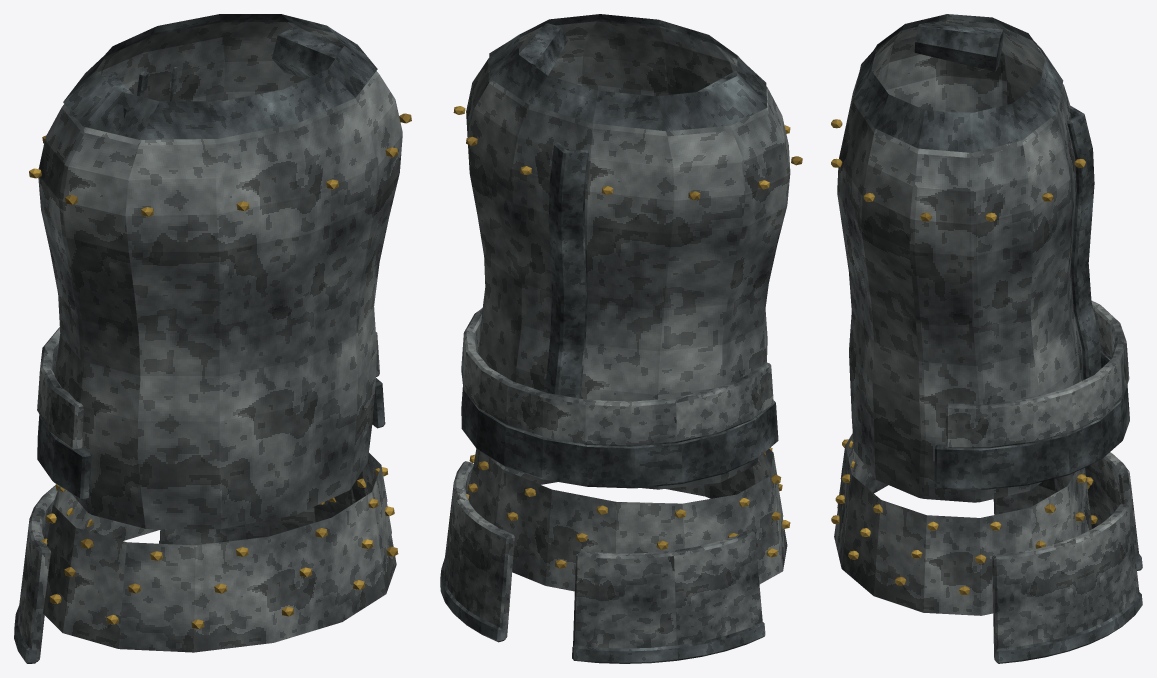
Rendered from chestplate.glb.
3 views of the same model, side by side, from view 1: azimuth 30°, elevation 25°; view 2: azimuth 150°, elevation 25°; view 3: azimuth 270°, elevation 25° (orthographic). The views are drawn at different scales.
Visible parts, largest first — view 1: cuirass, cuirass_collar, fauld_2, fauld_0, fauld_1, tasset_-1, plackart_1, plackart_0, cuirass_strap_1, tasset_1; view 2: cuirass, tasset_-1, plackart_1, plackart_0, cuirass_collar, fauld_0, cuirass_keel, tasset_1, fauld_1, fauld_2, tasset_edge_-1, cuirass_strap_1 (+1 smaller); view 3: cuirass, tasset_1, cuirass_collar, plackart_1, fauld_0, plackart_0, fauld_1, fauld_2, cuirass_keel, tasset_-1, cuirass_strap_-1, tasset_edge_1.
Boxes of the visible parts, left/top/right/bottom form: cuirass: left=38, top=22, right=402, bottom=529; cuirass_collar: left=63, top=14, right=377, bottom=139; fauld_2: left=43, top=496, right=396, bottom=652; fauld_0: left=47, top=453, right=387, bottom=584; fauld_1: left=47, top=473, right=391, bottom=618; tasset_-1: left=18, top=485, right=57, bottom=661; plackart_1: left=37, top=327, right=379, bottom=450; plackart_0: left=37, top=378, right=385, bottom=500; cuirass_strap_1: left=272, top=26, right=354, bottom=78; tasset_1: left=159, top=487, right=354, bottom=545; cuirass: left=466, top=21, right=790, bottom=489; tasset_-1: left=573, top=530, right=762, bottom=648; plackart_1: left=461, top=308, right=773, bottom=446; plackart_0: left=461, top=387, right=778, bottom=488; cuirass_collar: left=489, top=14, right=767, bottom=131; fauld_0: left=471, top=448, right=778, bottom=539; cuirass_keel: left=545, top=142, right=588, bottom=398; tasset_1: left=443, top=461, right=514, bottom=638; fauld_1: left=468, top=458, right=783, bottom=560; fauld_2: left=498, top=463, right=787, bottom=591; tasset_edge_-1: left=572, top=622, right=765, bottom=663; cuirass_strap_1: left=519, top=23, right=567, bottom=75; cuirass: left=837, top=19, right=1083, bottom=502; tasset_1: left=992, top=504, right=1139, bottom=657; cuirass_collar: left=854, top=14, right=1063, bottom=152; plackart_1: left=945, top=300, right=1129, bottom=448; fauld_0: left=840, top=433, right=1087, bottom=553; plackart_0: left=934, top=351, right=1129, bottom=489; fauld_1: left=837, top=452, right=1091, bottom=584; fauld_2: left=834, top=468, right=1091, bottom=615; cuirass_keel: left=1067, top=105, right=1101, bottom=379; tasset_-1: left=993, top=452, right=1139, bottom=559; cuirass_strap_-1: left=914, top=22, right=1003, bottom=71; tasset_edge_1: left=994, top=592, right=1142, bottom=663.
Size of the model in its own units: 0.4921 by 0.7905 by 0.425.
Materials: 3 (3 with a texture image).
